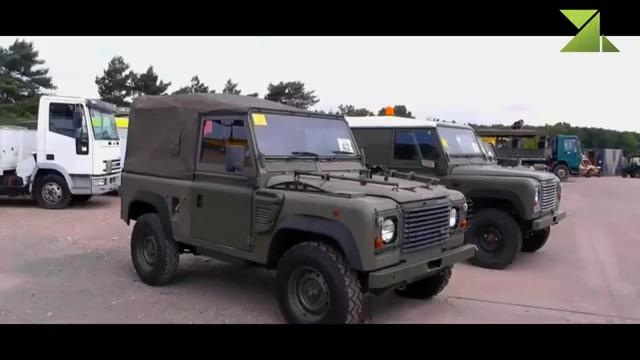MIL_HMMWV: (120, 93, 479, 323), (342, 112, 570, 268), (0, 96, 124, 208), (494, 135, 584, 182)
